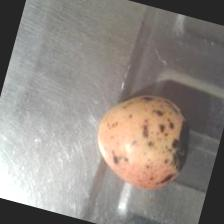Mango Overripe: (81, 81, 206, 200)
